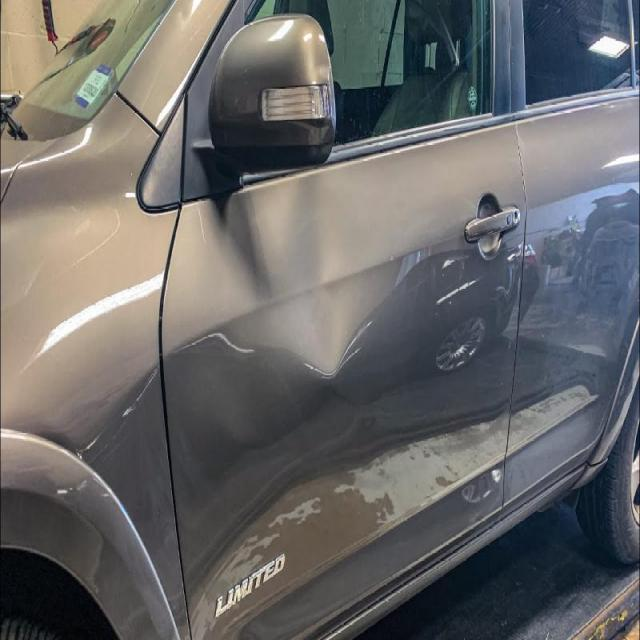dent: (208, 266, 397, 376), (266, 222, 324, 302)
